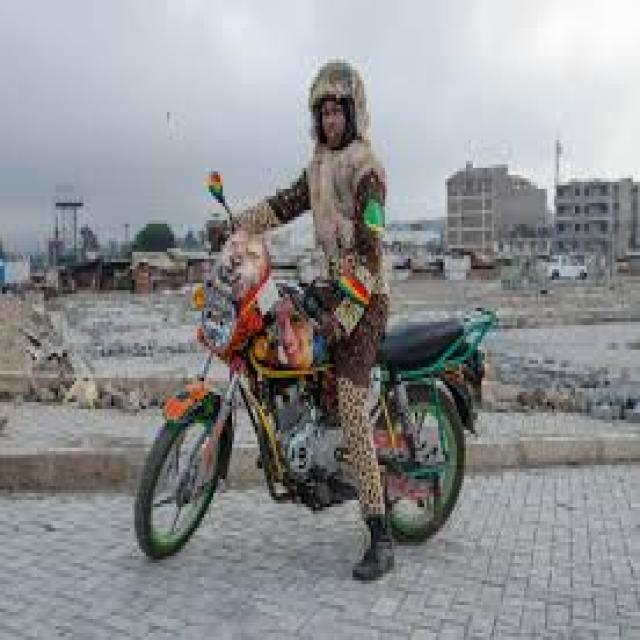bodaboda: (65, 148, 519, 626)
